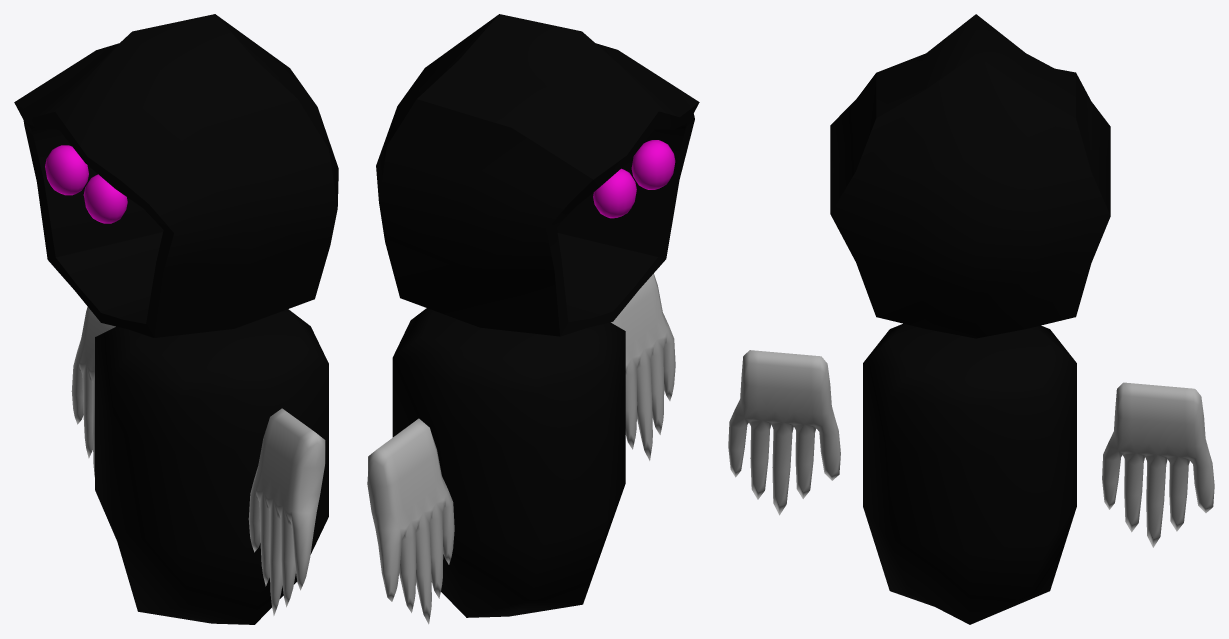
File: Melee_Blockout.fbx
3 renders of one model, left to right at view 1: azimuth 30°, elevation 25°; view 2: azimuth 150°, elevation 25°; view 3: azimuth 270°, elevation 25°, orthographic. The views are drawn at different scales.
Visible parts, largest first — view 1: pasted__pCube4, pCube2, pCube6, pCube3, pCube4, pCube5; view 2: pasted__pCube4, pCube2, pCube3, pCube6, pCube5, pCube4; view 3: pasted__pCube4, pCube2, pCube3, pCube6.
Part boxes in pixels (bbox=[...]): pasted__pCube4: bbox=[14, 14, 338, 337]; pCube2: bbox=[95, 309, 328, 624]; pCube6: bbox=[248, 408, 325, 615]; pCube3: bbox=[71, 307, 115, 476]; pCube4: bbox=[45, 145, 88, 195]; pCube5: bbox=[83, 174, 127, 223]; pasted__pCube4: bbox=[376, 14, 699, 336]; pCube2: bbox=[392, 308, 625, 617]; pCube3: bbox=[367, 418, 454, 624]; pCube6: bbox=[611, 273, 675, 460]; pCube5: bbox=[631, 140, 675, 189]; pCube4: bbox=[593, 168, 636, 218]; pasted__pCube4: bbox=[830, 14, 1110, 338]; pCube2: bbox=[863, 323, 1076, 624]; pCube3: bbox=[1102, 382, 1214, 547]; pCube6: bbox=[728, 350, 840, 515].
Size of the model in its own units: 199 by 427 by 330.
